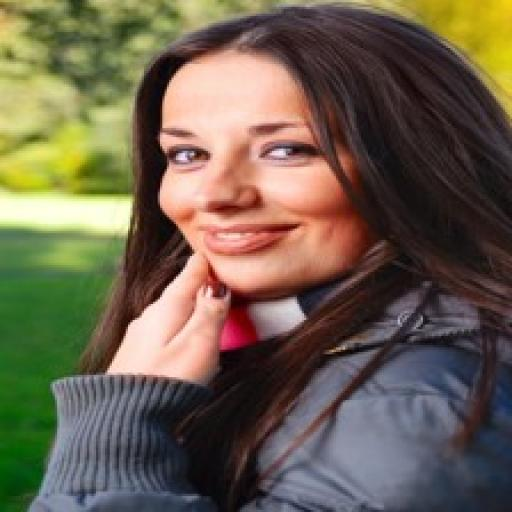human: (45, 4, 512, 511)
